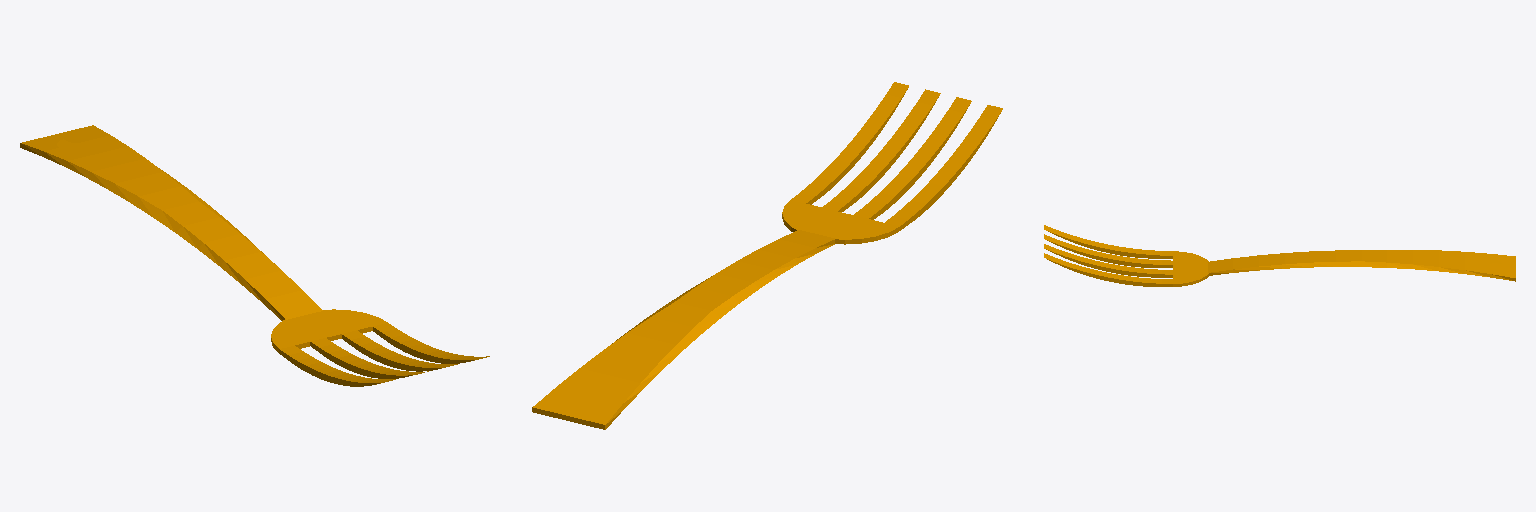
The robot description file, URDF, robot "fork":
<robot name="fork">
  <link name="fork">
    <inertial>
      <mass value="10"/>
      <inertia  ixx="1.0" ixy="0.0"  ixz="0.0"  iyy="100.0"  iyz="0.0"  izz="1.0" />
    </inertial>
    <visual>
      <geometry>
        <mesh filename="package://models_pkg/models/table_set/fork/fork.dae" scale="1 1 1"/>
      </geometry>	
    </visual>
    <collision>
      <geometry>
        <mesh filename="package://models_pkg/models/table_set/fork/fork.dae" scale="1 1 1"/>
      </geometry>
    </collision>
  </link> 
</robot>

--- What the picture shows (computed from the rendered views, not written in the file) ---
3 views of the same robot in one strip: view 1: azimuth 30°, elevation 25°; view 2: azimuth 150°, elevation 25°; view 3: azimuth 270°, elevation 25° (orthographic).
Robot: fork — 1 links, 0 joints (none); root link fork; default pose: every joint at zero.
Links seen in each view (by area): view 1: fork; view 2: fork; view 3: fork.
Link boxes in pixels (x1,y1,x2,y2): fork: [20, 125, 489, 386]; fork: [532, 82, 1002, 429]; fork: [1044, 225, 1515, 286].
Bounding box of the posed robot: 0.0387 × 0.2334 × 0.016 m (x, y, z).
Meshes: 1 distinct files referenced, 1 mesh visuals loaded (1 Collada DAE).